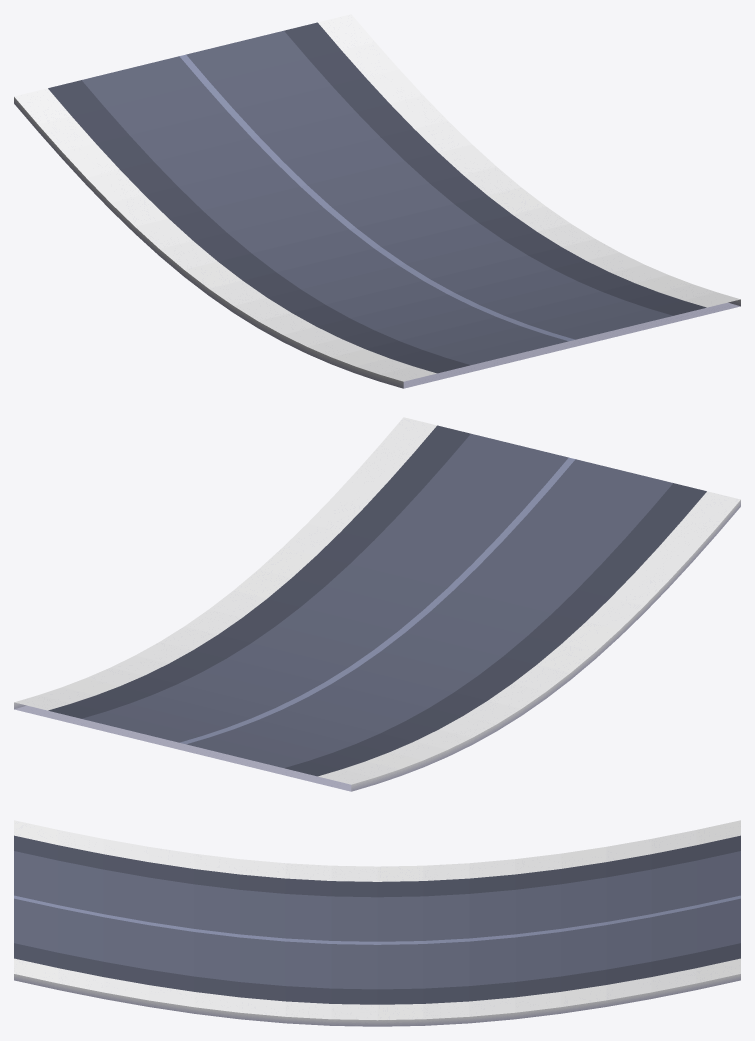
Rendered from road-Straight-BiSlopeDown-BiSlopeUp-Even-Center-Size2.glb.
3 views of the same model, one above another, from view 1: azimuth 30°, elevation 25°; view 2: azimuth 150°, elevation 25°; view 3: azimuth 270°, elevation 25° (orthographic). The views are drawn at different scales.
Visible parts, largest first — view 1: road-Straight-BiSlopeDown-BiSlopeUp-Even-Center-Size2; view 2: road-Straight-BiSlopeDown-BiSlopeUp-Even-Center-Size2; view 3: road-Straight-BiSlopeDown-BiSlopeUp-Even-Center-Size2.
Part boxes in pixels (bbox=[...]): road-Straight-BiSlopeDown-BiSlopeUp-Even-Center-Size2: bbox=[14, 14, 740, 388]; road-Straight-BiSlopeDown-BiSlopeUp-Even-Center-Size2: bbox=[14, 417, 740, 791]; road-Straight-BiSlopeDown-BiSlopeUp-Even-Center-Size2: bbox=[14, 820, 740, 1026].
Bounding box in the file's own units: 1 × 0.1606 × 2.
1 material, 1 textured.
